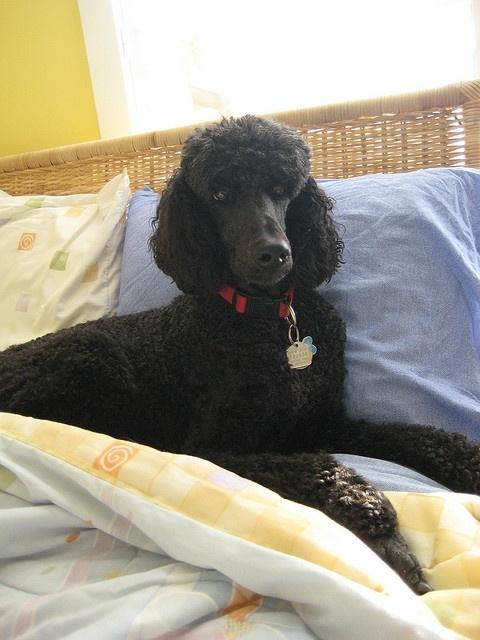dog: (0, 116, 479, 592)
